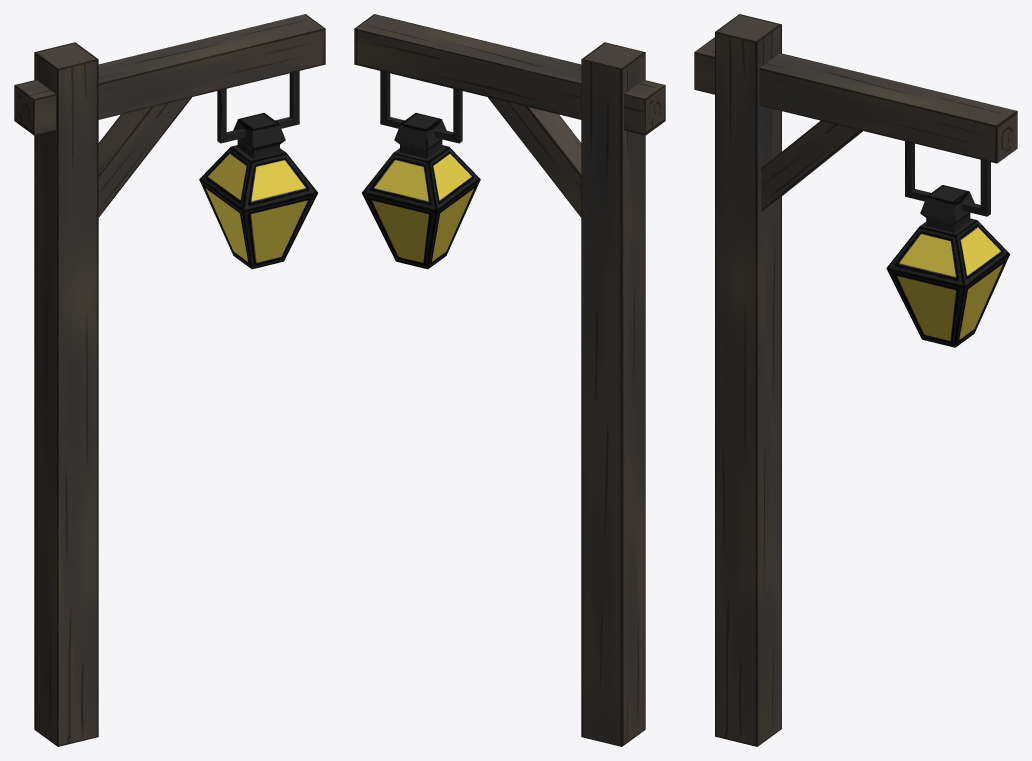
Rendered from Lamp.fbx.
3 views of the same model, side by side, from view 1: azimuth 30°, elevation 25°; view 2: azimuth 150°, elevation 25°; view 3: azimuth 330°, elevation 25° (orthographic). The views are drawn at different scales.
Visible parts, largest first — view 1: Lamp; view 2: Lamp; view 3: Lamp.
Part boxes in pixels (box(x1,y1,x2,y2)): Lamp: box(14, 14, 325, 746); Lamp: box(354, 14, 665, 746); Lamp: box(694, 14, 1017, 746).
Bounding box in the file's own units: 82.53 × 183 × 21.41.
Materials: 2 (1 with a texture image).
